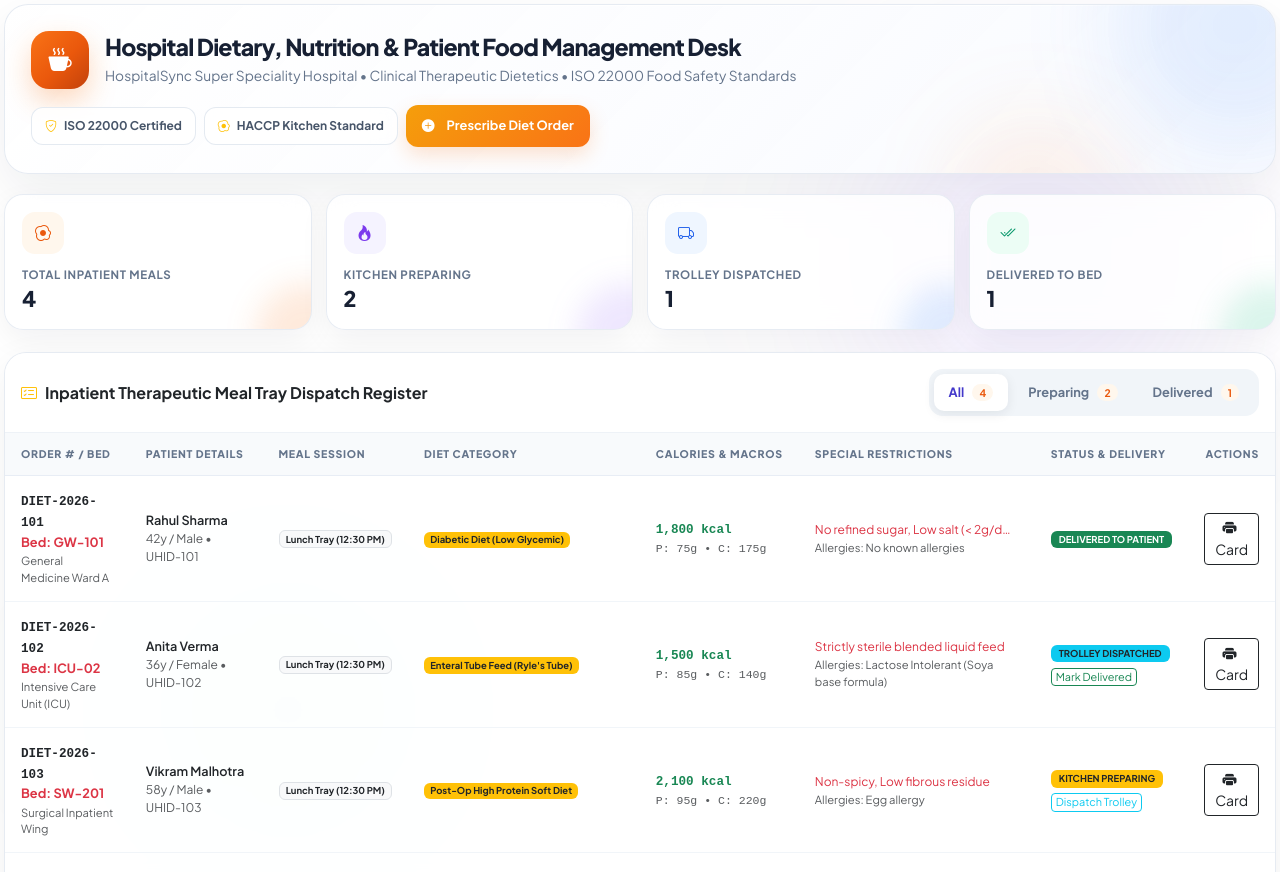
Scenario: Dietary & Nutrition Desk Integration Suite › filters meal orders by status using premium tabs
Check: the text "Rahul Sharma" is shown, box [146,512,228,528]
Check: the text "Anita Verma" is shown, box [146,638,219,654]
// Click Preparing tab
Click the button "Preparing 2" at (1073, 393), box [1013,374,1133,411]
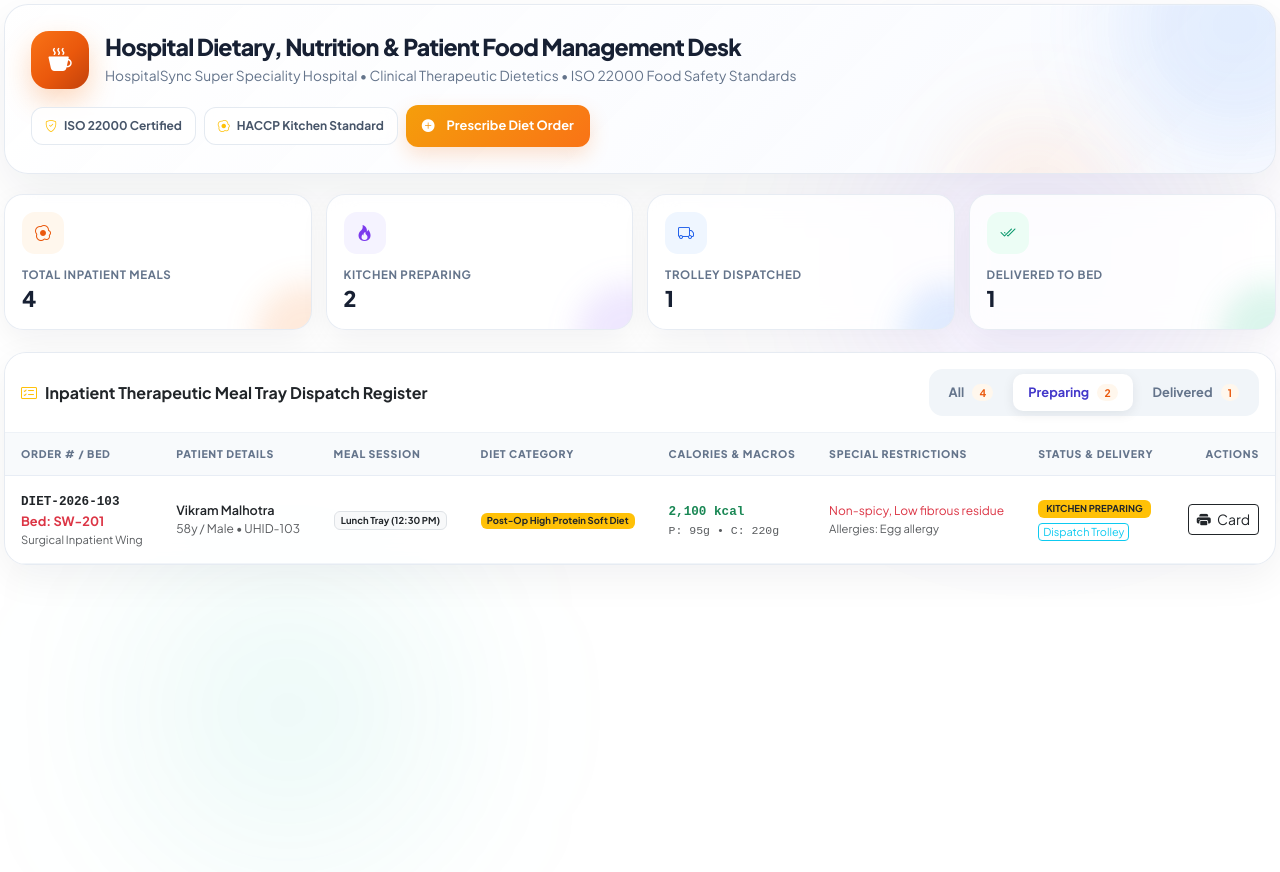
Check: the text "Vikram Malhotra" is shown, box [176,502,275,518]
Check: the text "Rahul Sharma" is gone
